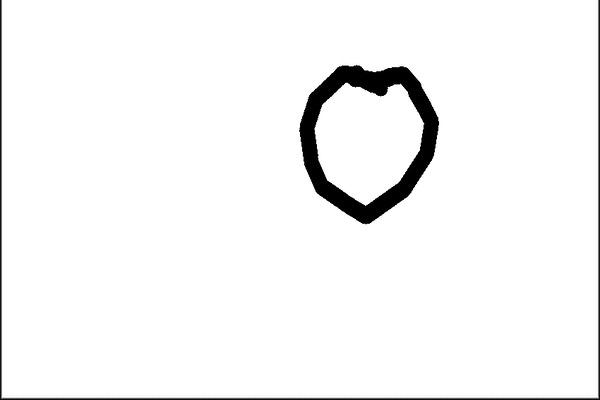O: (292, 52, 443, 227)
